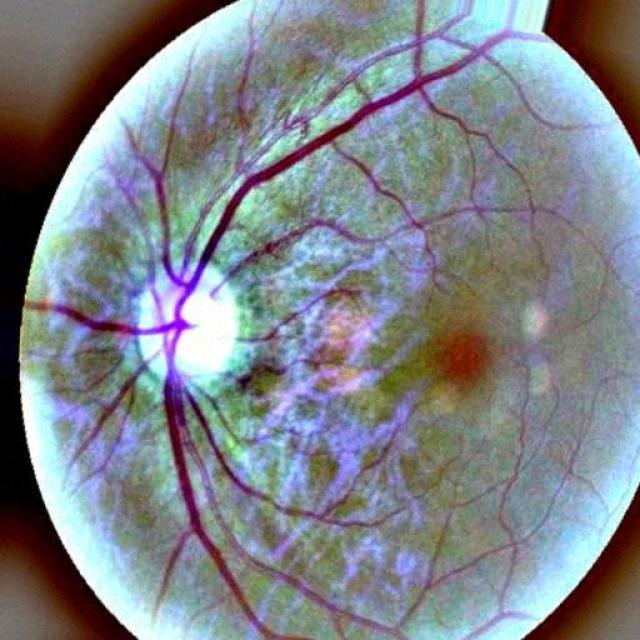Macula: (445, 332, 486, 384)
Nerves: (136, 59, 468, 374), (201, 36, 494, 259), (156, 399, 253, 624), (191, 398, 260, 494), (26, 300, 172, 335), (26, 301, 134, 332), (174, 445, 198, 519)
Optic Disk: (123, 261, 247, 402)
